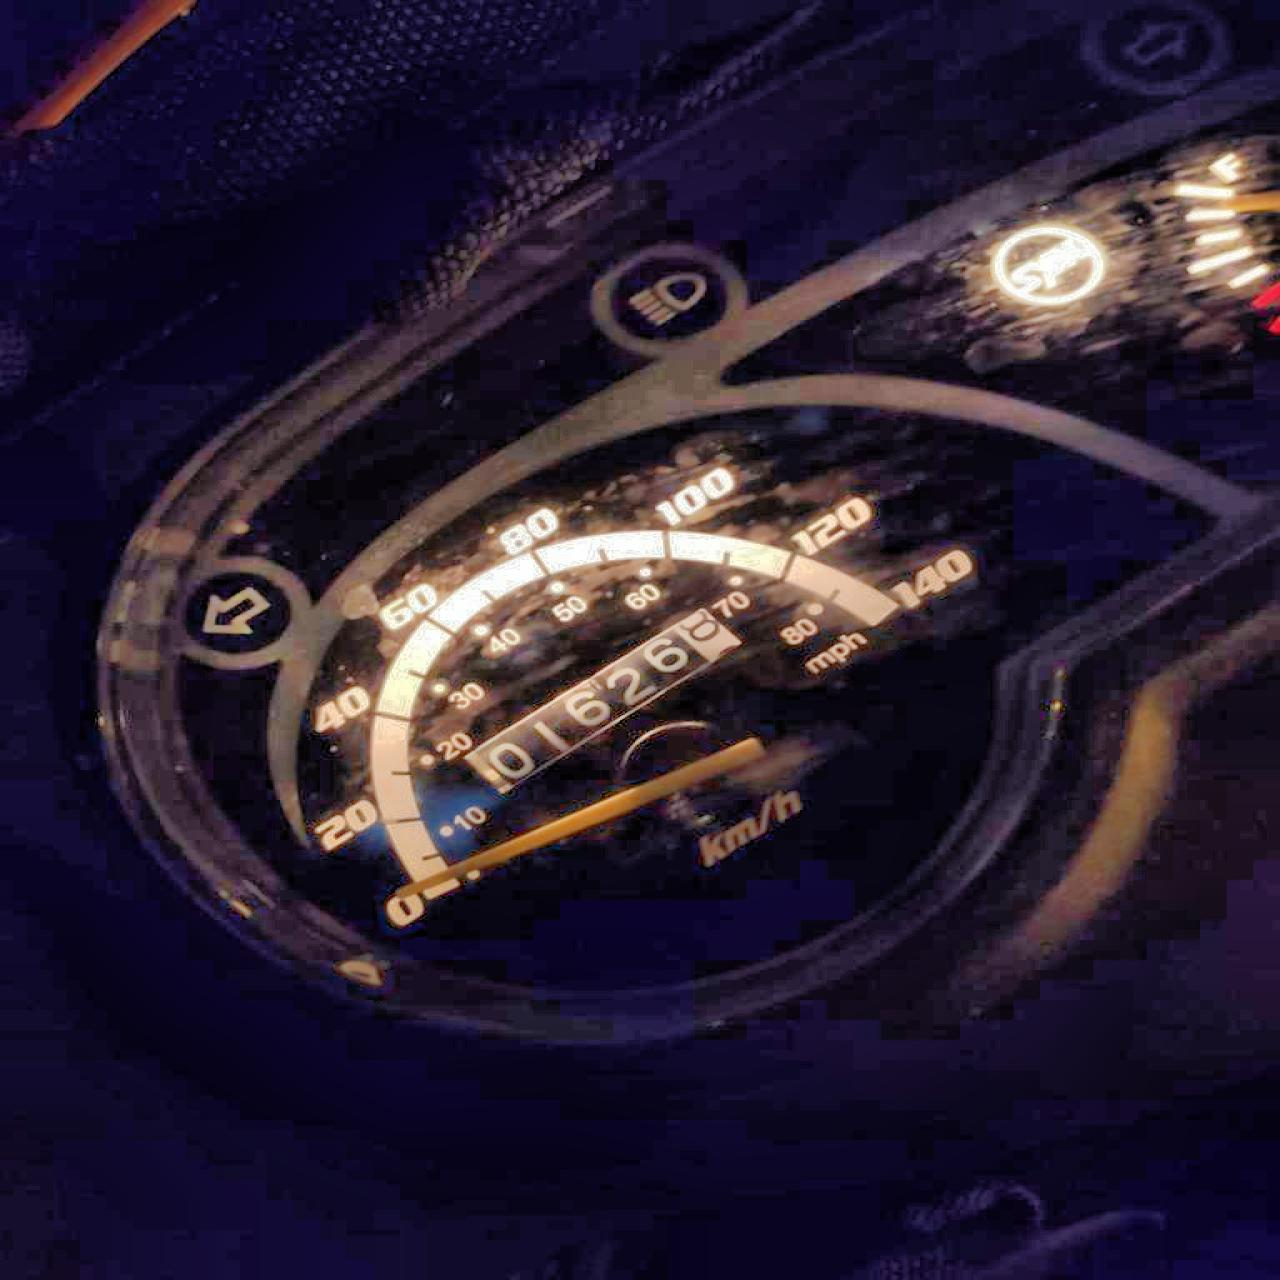0: (485, 742, 540, 778), (459, 680, 485, 700), (448, 729, 471, 750), (497, 625, 520, 645)
1: (520, 719, 572, 753)
2: (604, 667, 660, 704), (434, 741, 462, 760)
3: (448, 690, 470, 710)
4: (489, 633, 506, 653)
5: (549, 601, 572, 621)
6: (641, 634, 690, 674), (560, 689, 610, 726)
7: (710, 598, 734, 621)
8: (673, 610, 720, 642)
odometer: (447, 604, 748, 803)
